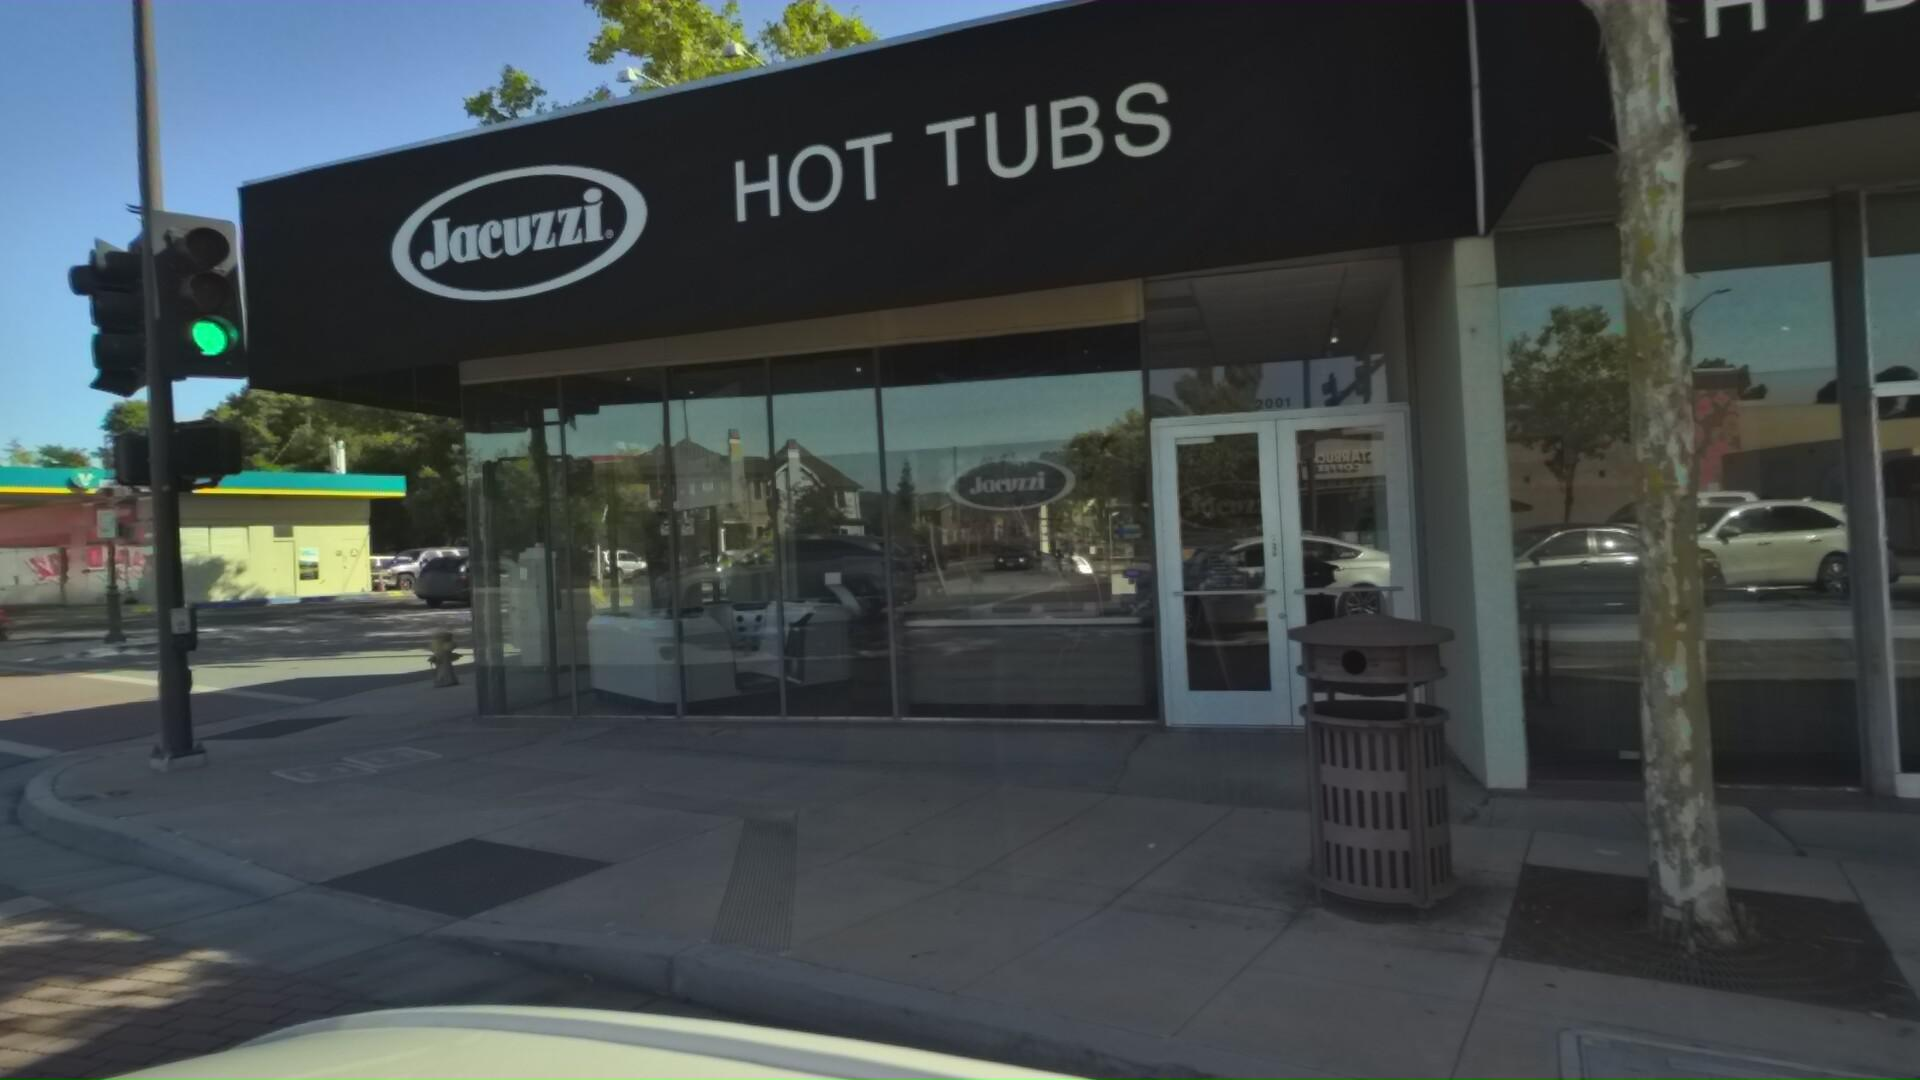car: (405, 538, 554, 607), (351, 535, 491, 591), (316, 541, 443, 591), (574, 539, 655, 580)
